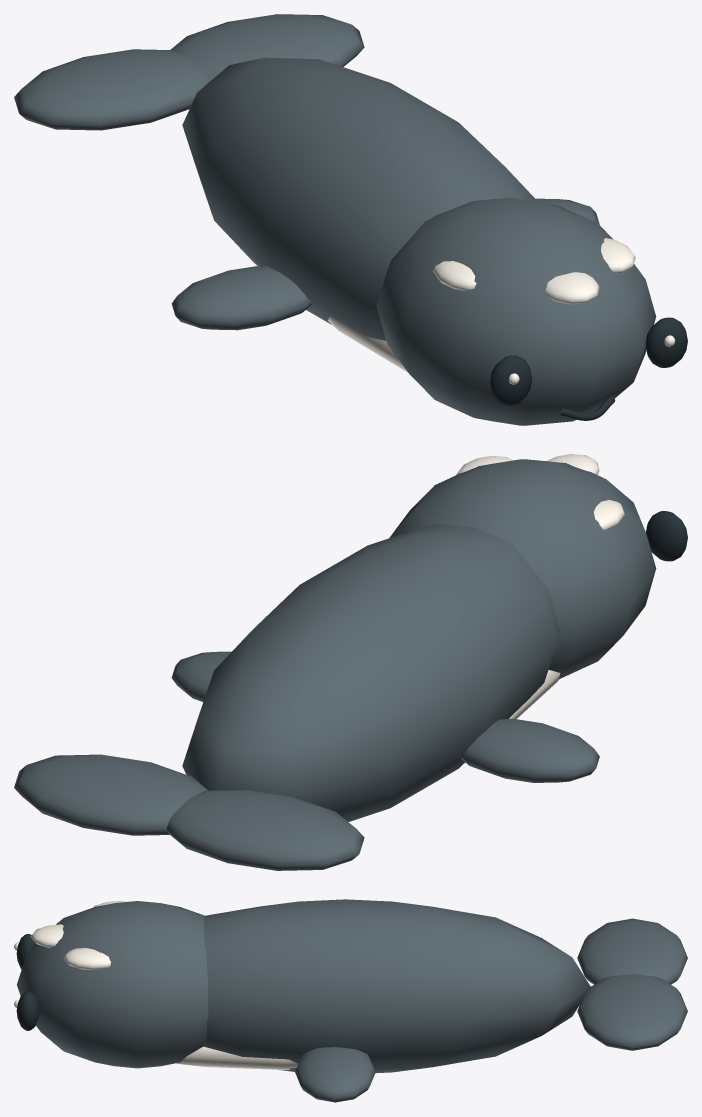
The model's file is org_rightwhale.glb.
3 views of the same model, one above another, from view 1: azimuth 30°, elevation 25°; view 2: azimuth 150°, elevation 25°; view 3: azimuth 270°, elevation 25° (orthographic). The views are drawn at different scales.
Parts seen in each view (by area): view 1: Body, Head, Tail, Fin_R, Eye_L, Eye_R; view 2: Body, Head, Tail, Fin_R, Eye_R, Fin_L; view 3: Body, Head, Tail, Fin_L, Eye_L, Eye_R.
Part boxes in pixels (x1=…): Body: x1=182, y1=57, x2=537, y2=372; Head: x1=376, y1=197, x2=656, y2=425; Tail: x1=14, y1=14, x2=364, y2=130; Fin_R: x1=171, y1=266, x2=311, y2=330; Eye_L: x1=645, y1=317, x2=687, y2=367; Eye_R: x1=489, y1=355, x2=532, y2=405; Body: x1=182, y1=524, x2=560, y2=821; Head: x1=389, y1=454, x2=656, y2=679; Tail: x1=14, y1=754, x2=364, y2=870; Fin_R: x1=461, y1=719, x2=599, y2=782; Eye_R: x1=646, y1=511, x2=687, y2=561; Fin_L: x1=171, y1=651, x2=231, y2=701; Body: x1=175, y1=899, x2=590, y2=1073; Head: x1=17, y1=901, x2=208, y2=1068; Tail: x1=577, y1=918, x2=687, y2=1050; Fin_L: x1=295, y1=1047, x2=375, y2=1102; Eye_L: x1=14, y1=991, x2=39, y2=1030; Eye_R: x1=14, y1=934, x2=35, y2=969.
Size of the model in its own units: 1.91 by 0.8894 by 3.5.
